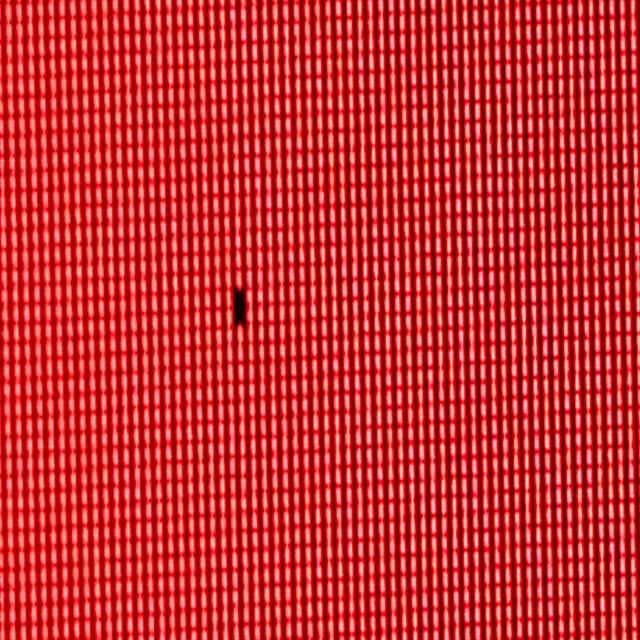Dead pixel: (234, 283, 246, 328)
